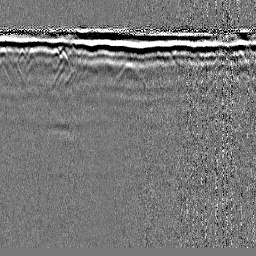cavity: (115, 60, 146, 82)
